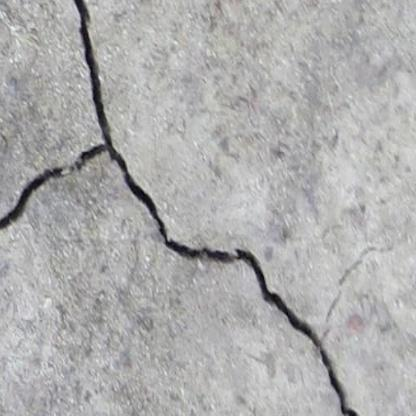Cracks: (68, 0, 372, 416), (0, 162, 70, 243), (336, 244, 390, 290), (323, 294, 344, 323)
